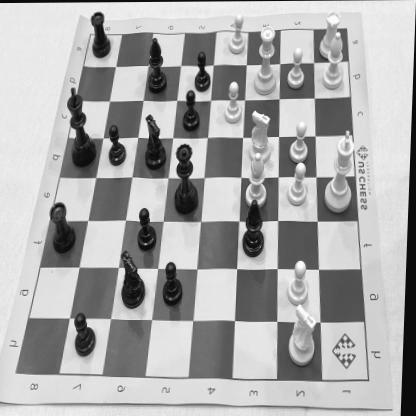black-bishop: (120, 247, 150, 314), (240, 198, 271, 258), (143, 33, 172, 97), (143, 110, 170, 172)
black-king: (64, 81, 102, 170)
black-pawn: (162, 258, 190, 308), (75, 308, 101, 360), (136, 206, 162, 254), (107, 120, 130, 168), (192, 50, 216, 94), (182, 88, 204, 134)
black-queen: (172, 140, 202, 218)
black-rook: (48, 197, 81, 254), (88, 7, 115, 62)
white-bishop: (320, 32, 347, 92), (246, 152, 270, 209)
white-king: (320, 127, 360, 216)
white-knight: (286, 304, 322, 368), (248, 108, 275, 166)
white-pawn: (288, 257, 314, 308), (288, 117, 312, 166), (287, 160, 311, 209), (285, 46, 308, 92), (223, 79, 245, 127), (228, 11, 248, 59)
white-queen: (252, 22, 282, 99)
white-rook: (318, 8, 344, 60)
